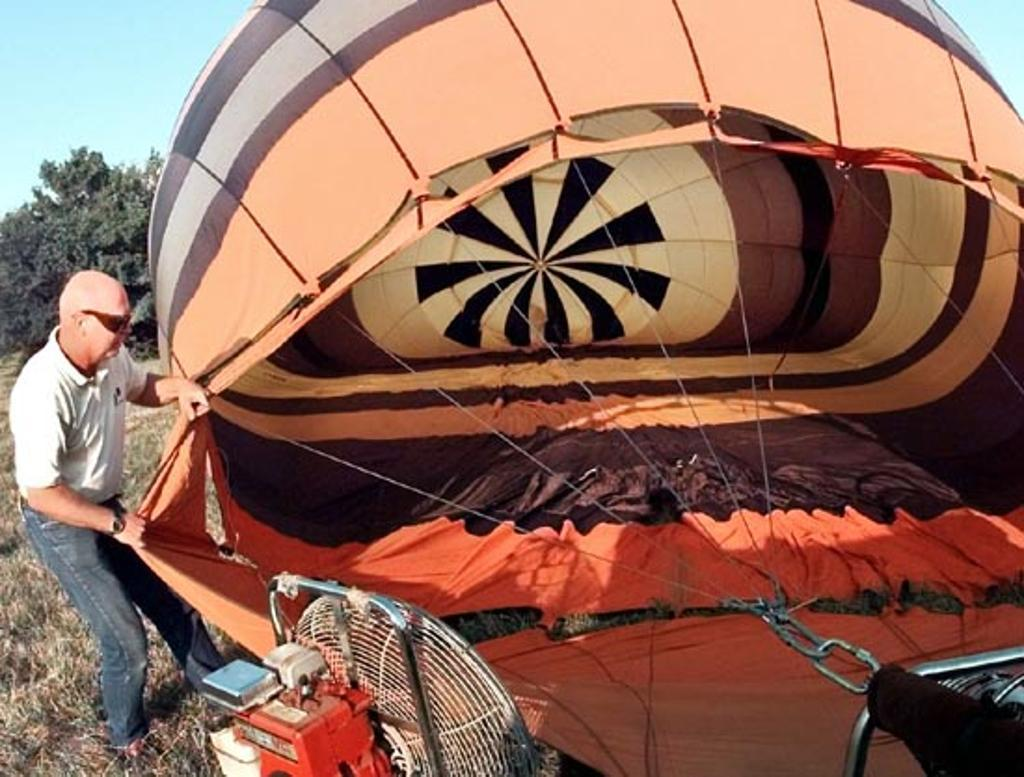face: (84, 309, 131, 358)
